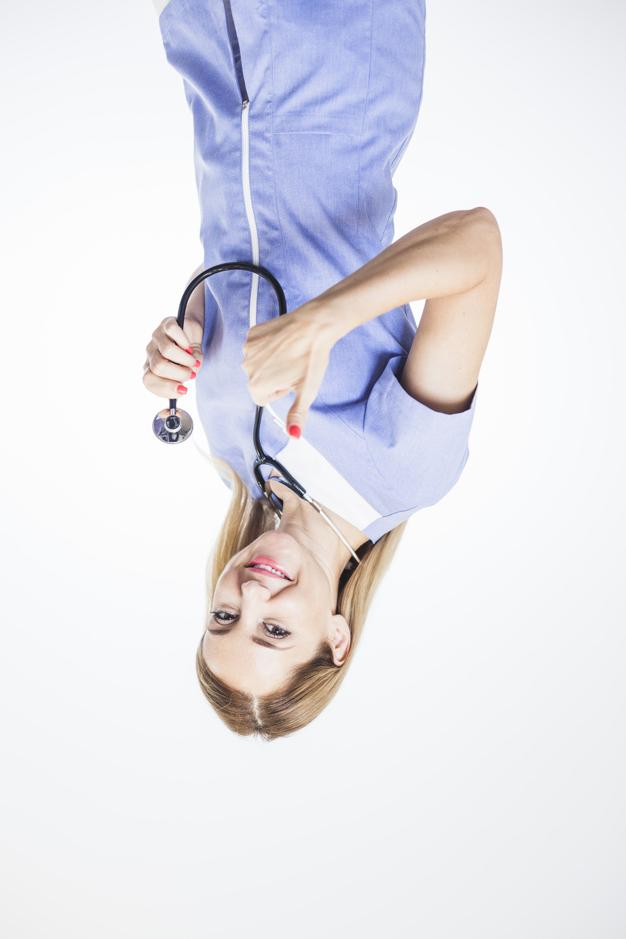thumbsdown: (242, 317, 307, 440)
